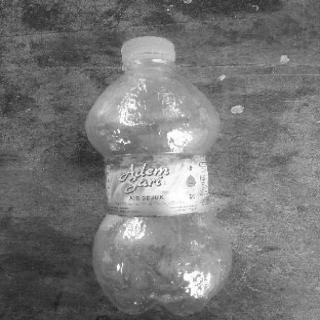plastic_bottles: (83, 33, 236, 320)
